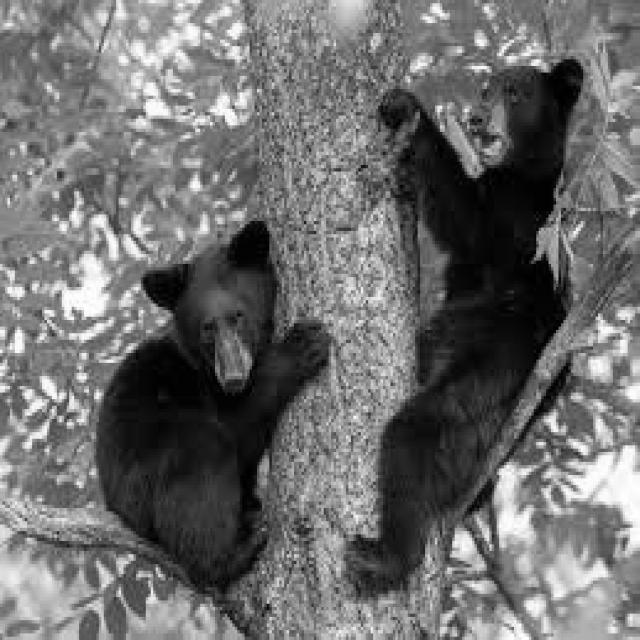Bear: (382, 84, 578, 467), (136, 250, 277, 550)
